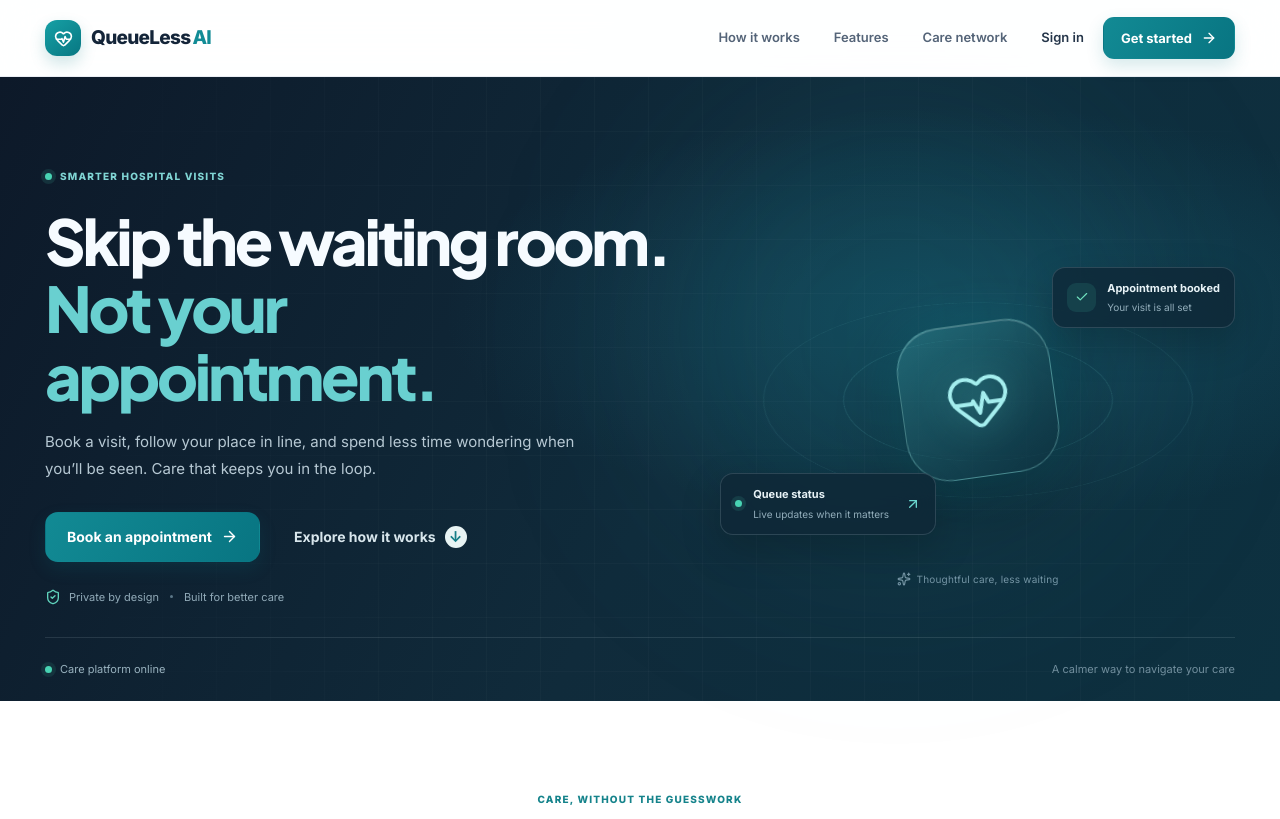
Test: QueueLess application › submits a patient registration form and stores the authenticated session
Step 1. Click the link "Get started" → (1169, 38), box x1=1103 y1=17 x2=1235 y2=59
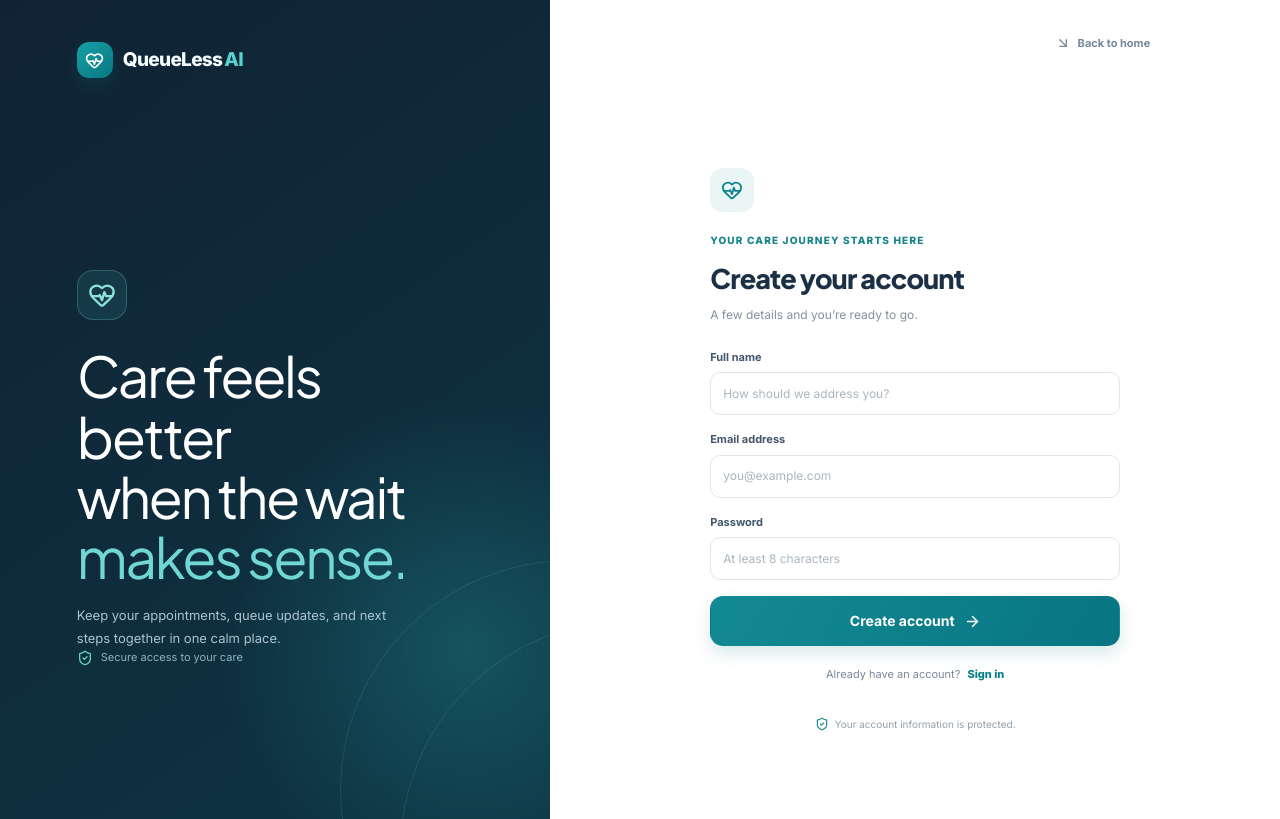
Step 2. Type "Taylor Patient" into the field labelled "Full name" → (915, 394), box x1=710 y1=372 x2=1120 y2=415
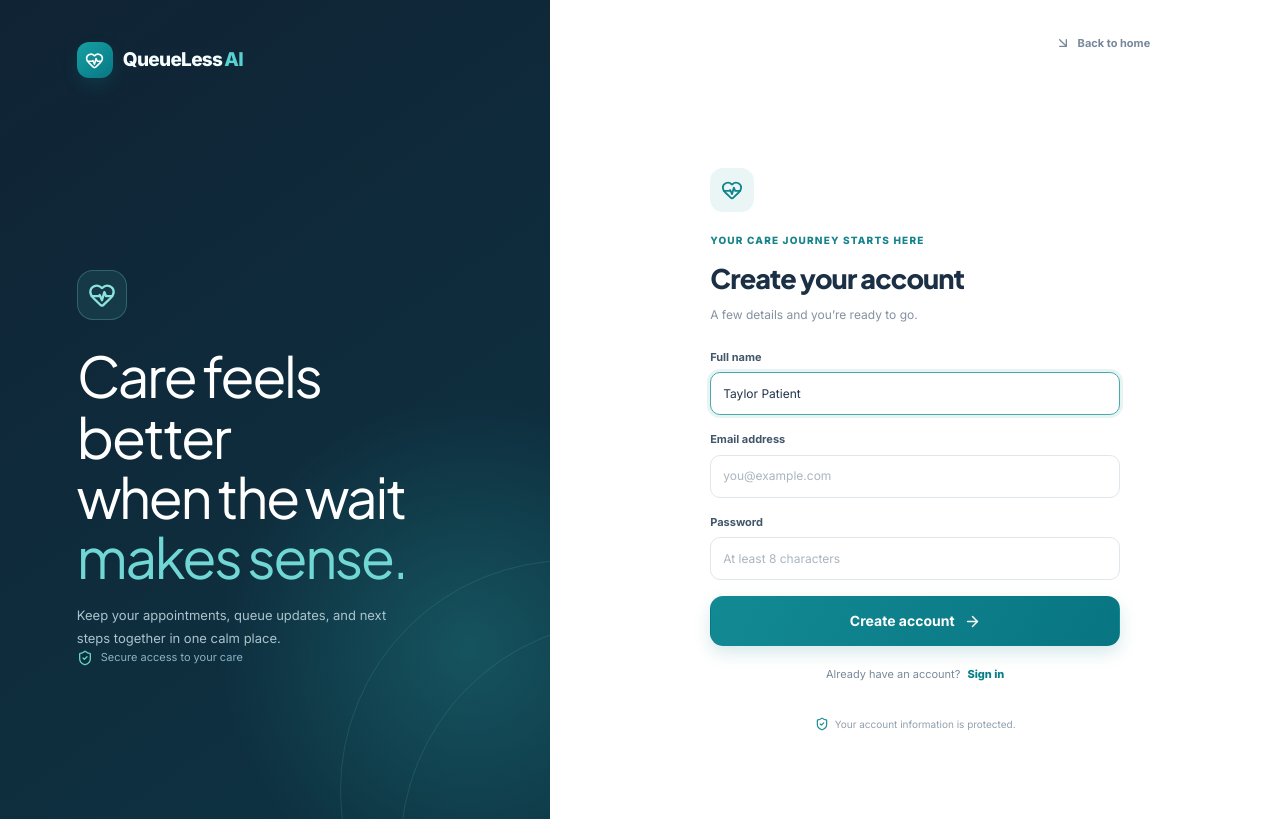
Step 3. Type "patient@example.com" into the field labelled "Email address" → (915, 476), box x1=710 y1=455 x2=1120 y2=498
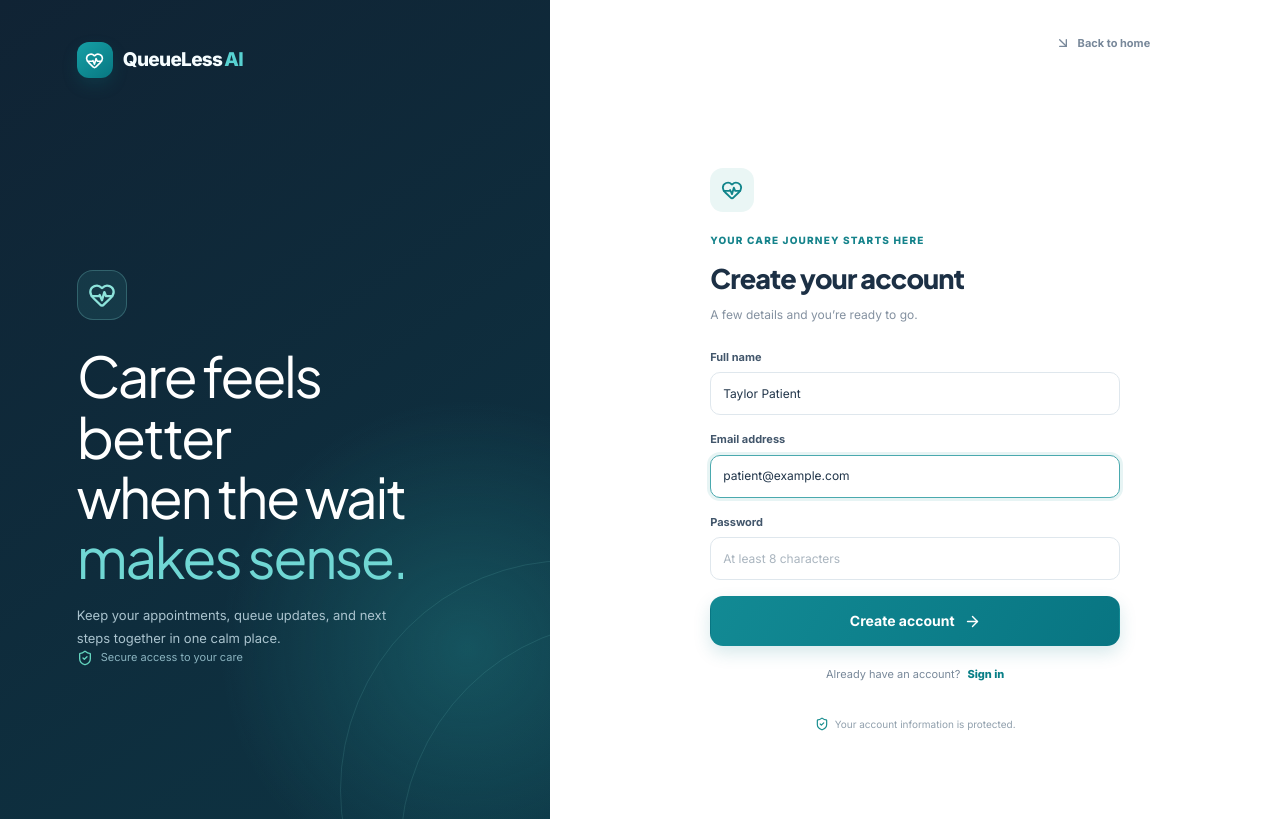
Step 4. Type "secure-pass-123" into the password field labelled "Password" → (915, 559), box x1=710 y1=537 x2=1120 y2=580
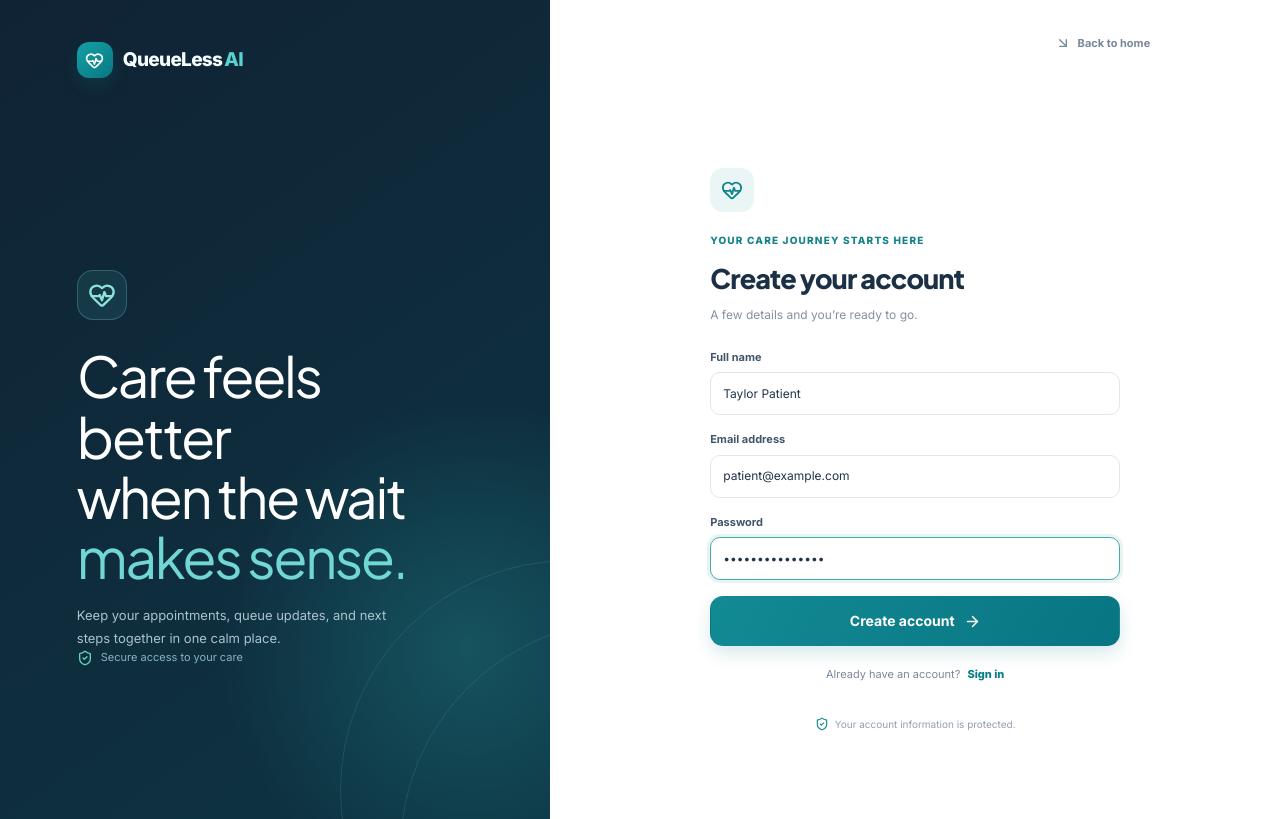
Step 5. Click the button "Create account" → (915, 621), box x1=710 y1=596 x2=1120 y2=646
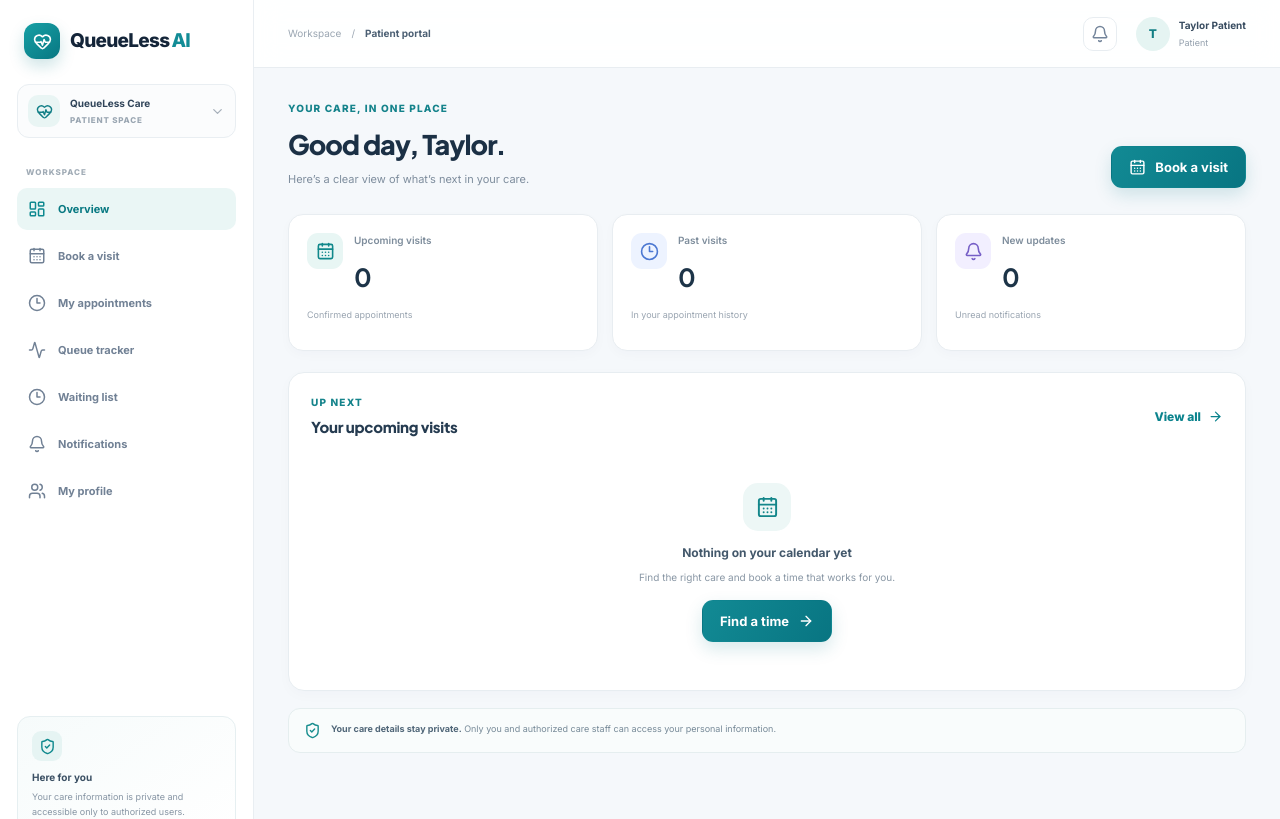
Check: the heading "Good day, Taylor." is shown, box x1=288 y1=124 x2=529 y2=164
